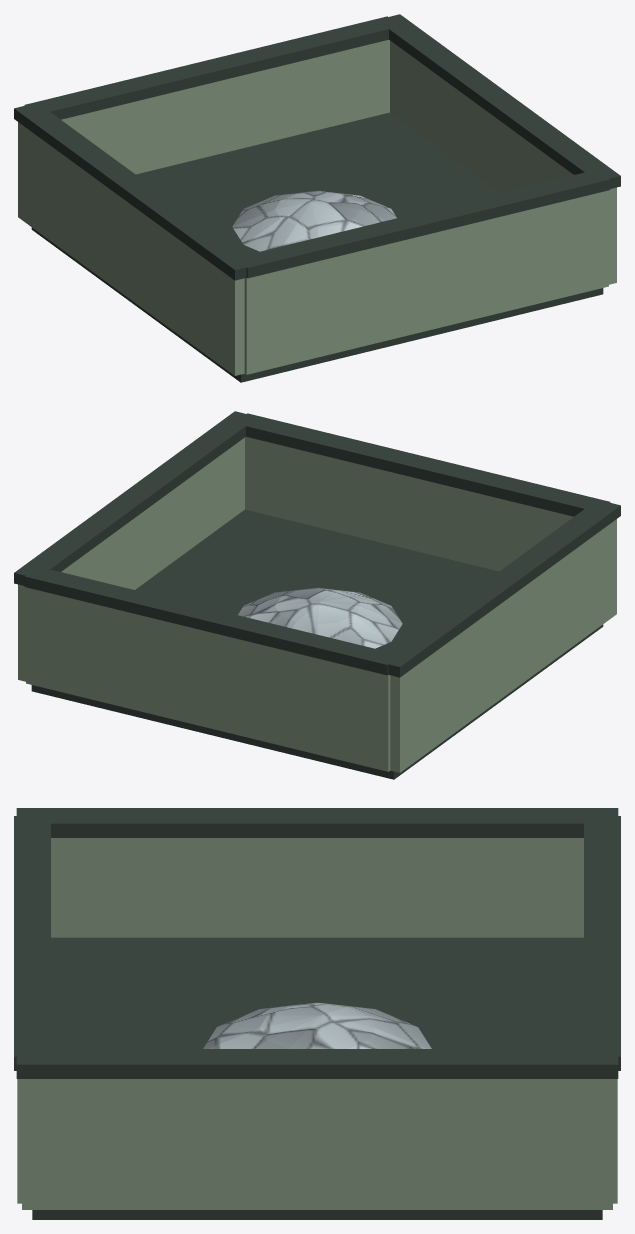
The model's file is bulk-low.glb.
3 renders of one model, top to bottom at view 1: azimuth 30°, elevation 25°; view 2: azimuth 150°, elevation 25°; view 3: azimuth 270°, elevation 25°, orthographic. The views are drawn at different scales.
Parts seen in each view (by area): view 1: Mesh_CargoContainer_sage, Mesh_CargoContainer_ink, Textured aggregate heap; view 2: Mesh_CargoContainer_sage, Mesh_CargoContainer_ink, Textured aggregate heap; view 3: Mesh_CargoContainer_sage, Mesh_CargoContainer_ink, Textured aggregate heap.
Part boxes in pixels (box(x1,y1,x2,y2)): Mesh_CargoContainer_sage: box(18, 40, 616, 375); Mesh_CargoContainer_ink: box(14, 14, 620, 382); Textured aggregate heap: box(232, 190, 396, 251); Mesh_CargoContainer_sage: box(18, 437, 616, 772); Mesh_CargoContainer_ink: box(14, 411, 620, 779); Textured aggregate heap: box(238, 587, 402, 648); Mesh_CargoContainer_sage: box(17, 838, 617, 1209); Mesh_CargoContainer_ink: box(14, 808, 620, 1219); Textured aggregate heap: box(203, 1002, 431, 1048).
Size of the model in its own units: 0.575 by 0.1705 by 0.575.
Materials: 3 (1 with a texture image).
